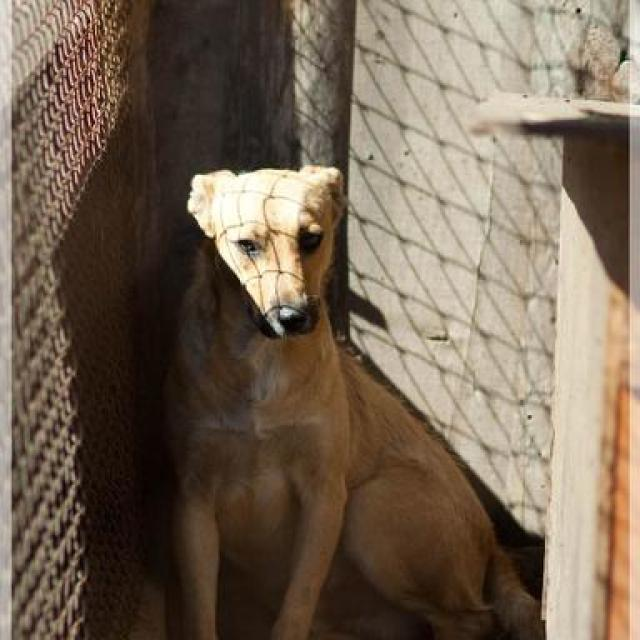sad: (154, 121, 540, 640)
